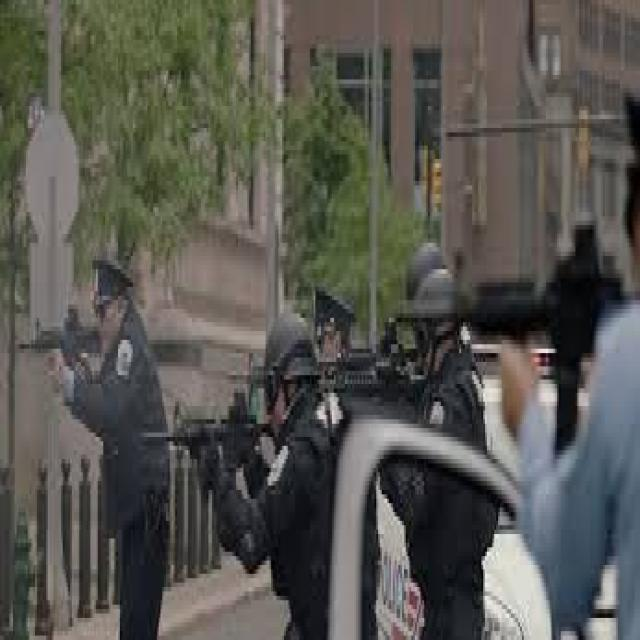weapon: (391, 212, 620, 458), (140, 403, 276, 524), (18, 303, 100, 379)
